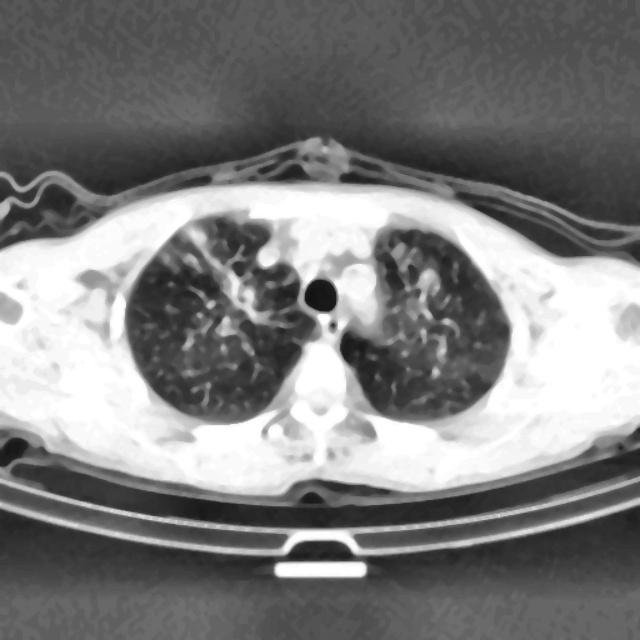covid: (0, 142, 639, 504)
